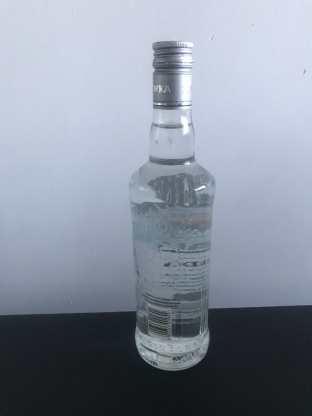nakretka: (150, 38, 195, 111)
